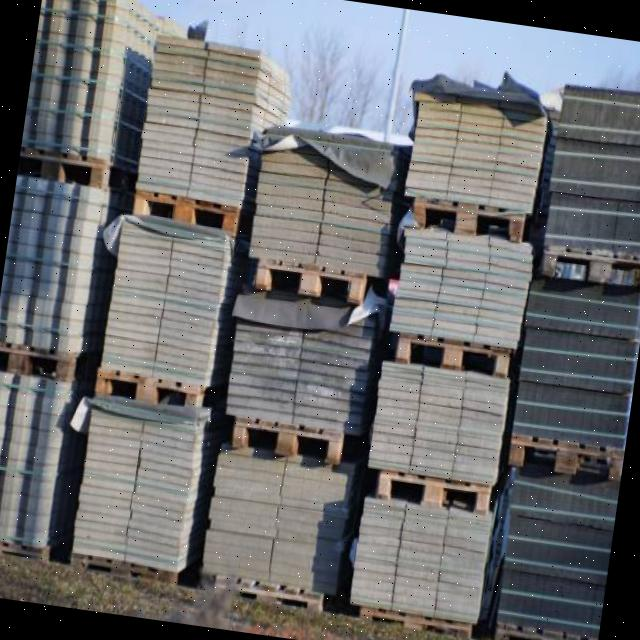Wooden-Pallets: (90, 358, 209, 447), (128, 167, 242, 254), (505, 421, 627, 494), (392, 327, 516, 387), (250, 258, 367, 316), (400, 194, 535, 244), (227, 418, 345, 469), (373, 468, 493, 517), (538, 248, 640, 299)
